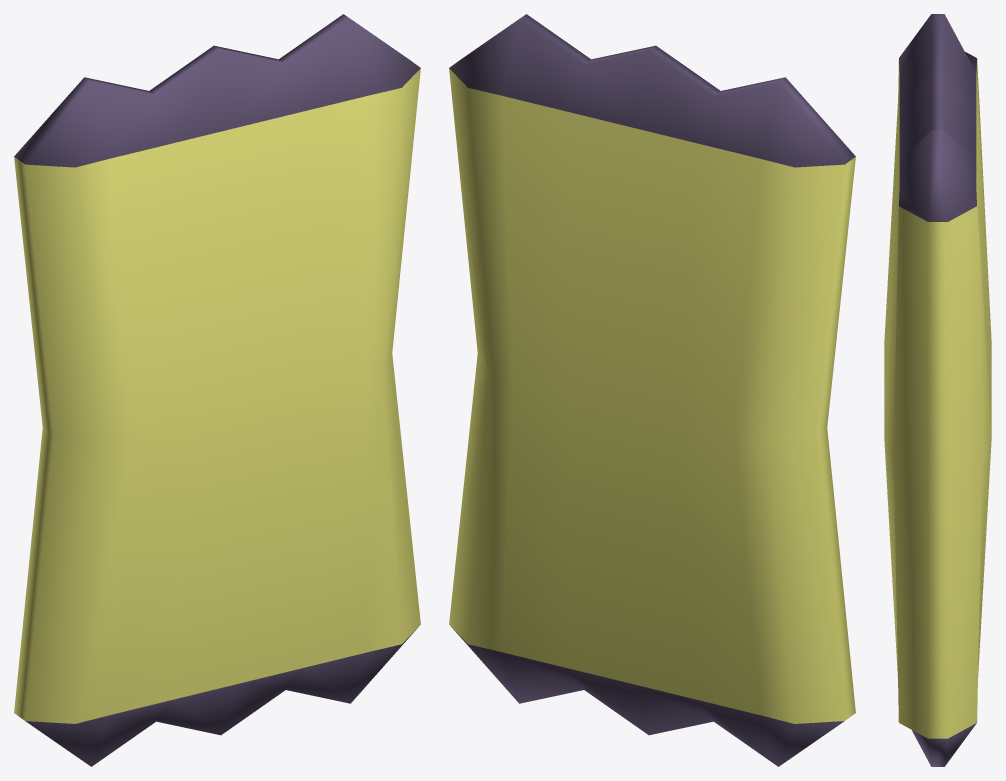
The model's file is PointsBar_MDL.fbx.
The picture shows the model from 3 angles, left to right: view 1: azimuth 30°, elevation 25°; view 2: azimuth 150°, elevation 25°; view 3: azimuth 270°, elevation 25°; orthographic projection. The views are drawn at different scales.
Visible parts, largest first — view 1: PointsBar_GEO; view 2: PointsBar_GEO; view 3: PointsBar_GEO.
Part boxes in pixels (x1,y1,x2,y2): PointsBar_GEO: [14, 14, 420, 766]; PointsBar_GEO: [449, 14, 855, 766]; PointsBar_GEO: [884, 14, 991, 766].
Size of the model in its own units: 33.12 by 54.73 by 8.36.
